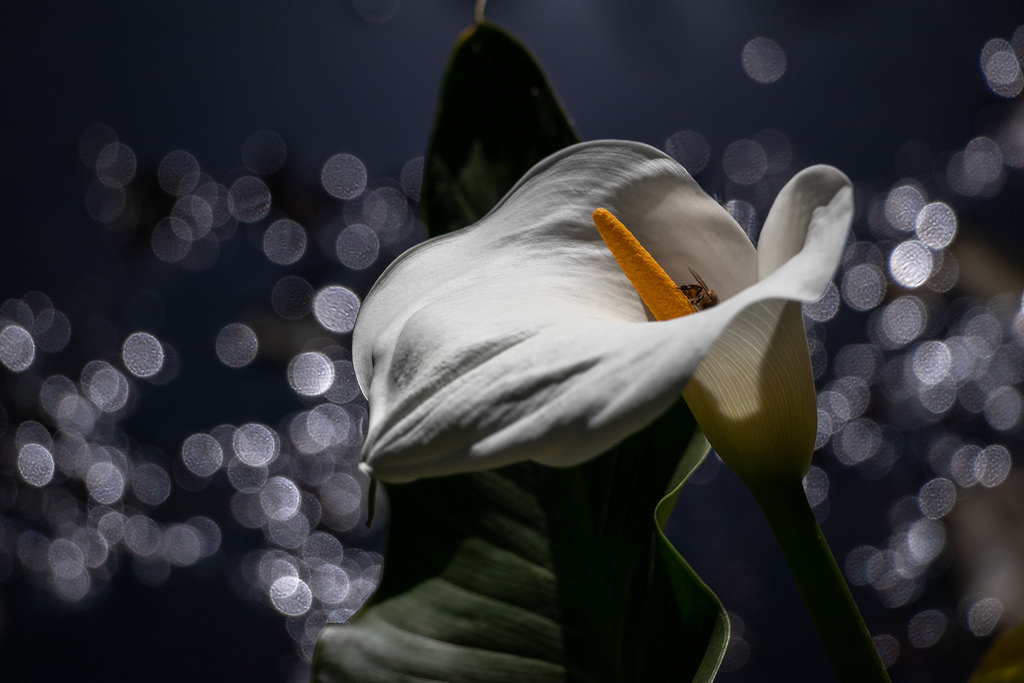plain rice: (470, 236, 519, 389)
